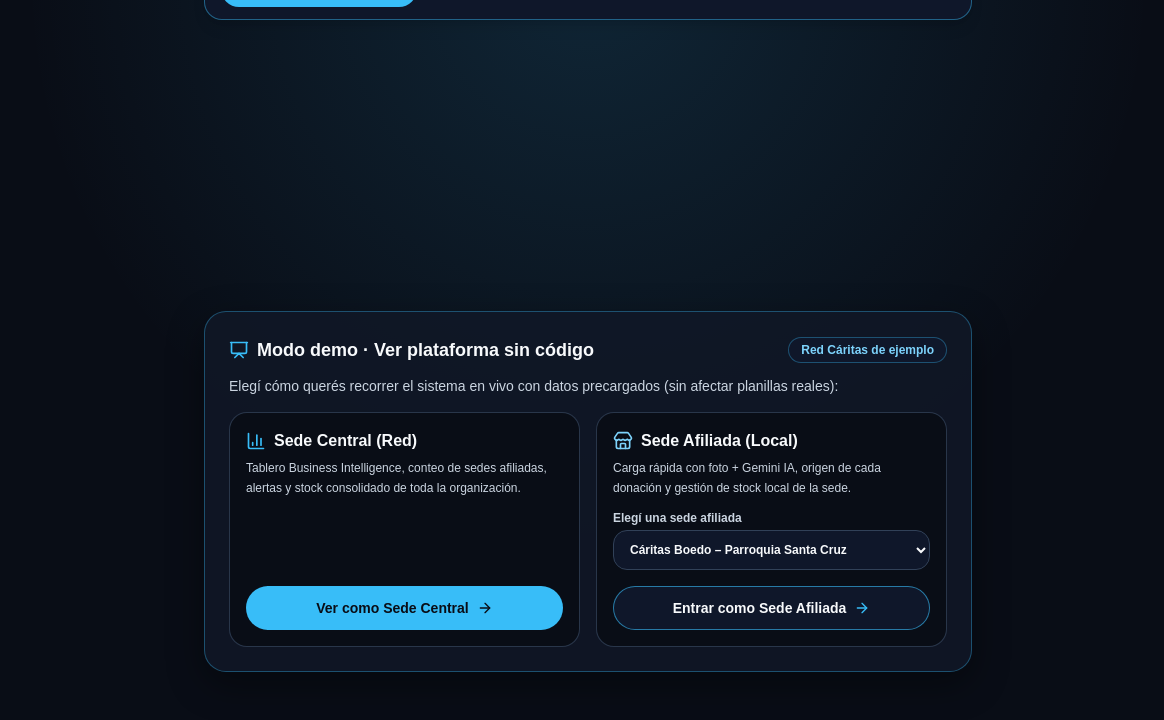
Test: DEMO competition presentation › lets OrgChoice open Modo Demo as Sede Central or Sede Afiliada past RequireRole
Later steps or results of the test are not shown.
(page scrolled)
Click the button "Ver como Sede Central" at (404, 608), box [246, 586, 563, 630]
(page scrolled)
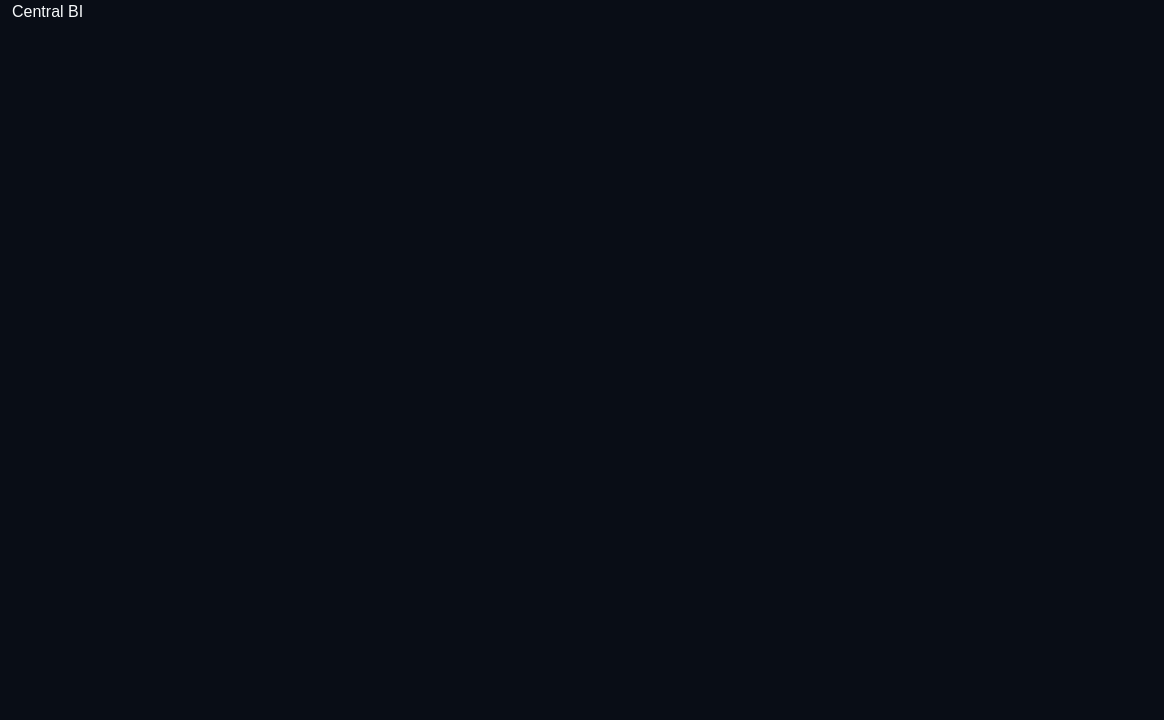
Expected: the text "Central BI" is shown, [12, 3, 83, 20]
